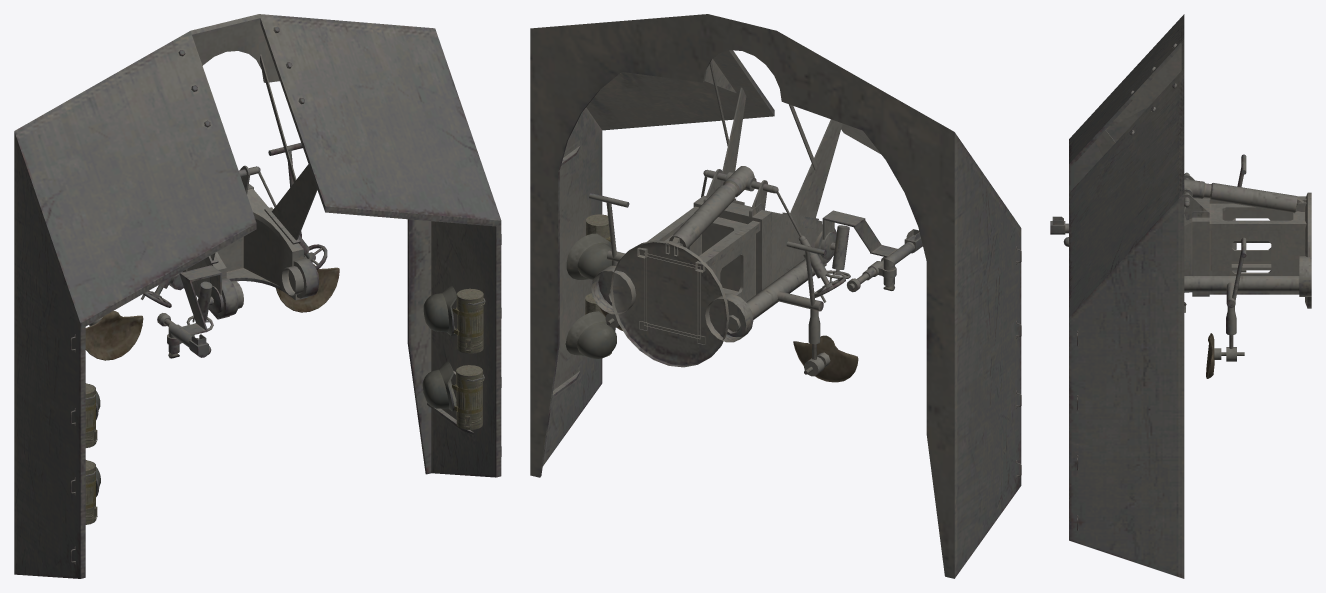
The model's file is Turret_01.glb.
3 views of the same model, side by side, from view 1: azimuth 30°, elevation 25°; view 2: azimuth 150°, elevation 25°; view 3: azimuth 270°, elevation 25° (orthographic). The views are drawn at different scales.
Parts seen in each view (by area): view 1: set_0_group_0; view 2: set_0_group_0; view 3: set_0_group_0.
Boxes of the visible parts, <box> form: set_0_group_0: <box>14,14,501,578</box>; set_0_group_0: <box>530,14,1021,578</box>; set_0_group_0: <box>1050,14,1311,578</box>.
Size of the model in its own units: 2.47 by 2.74 by 1.49.
Materials: 1 (1 with a texture image).
